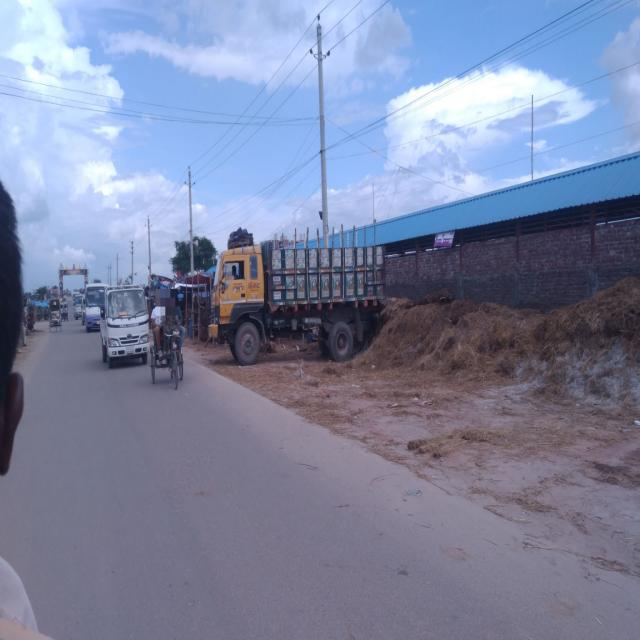bus: (82, 270, 102, 334)
pickup-van: (98, 282, 152, 361)
truck: (210, 226, 383, 367)
